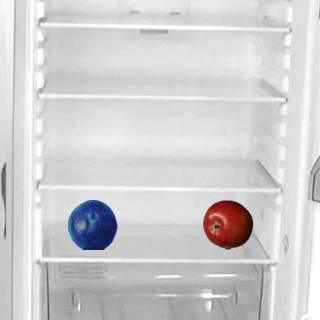Apple Braeburn: (202, 199, 252, 249)
Huckleberry: (67, 199, 117, 249)
